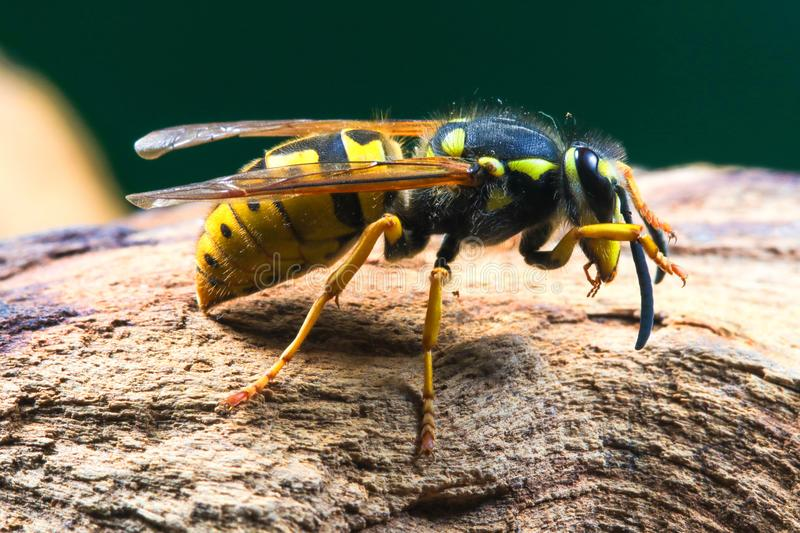chax: (84, 85, 693, 468)
